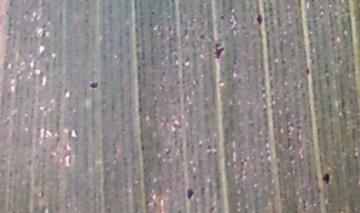tarspot: (211, 38, 227, 63), (85, 78, 102, 94), (183, 185, 197, 204), (320, 169, 333, 188), (255, 10, 266, 27), (304, 64, 312, 78), (147, 8, 158, 17), (218, 12, 227, 22)
